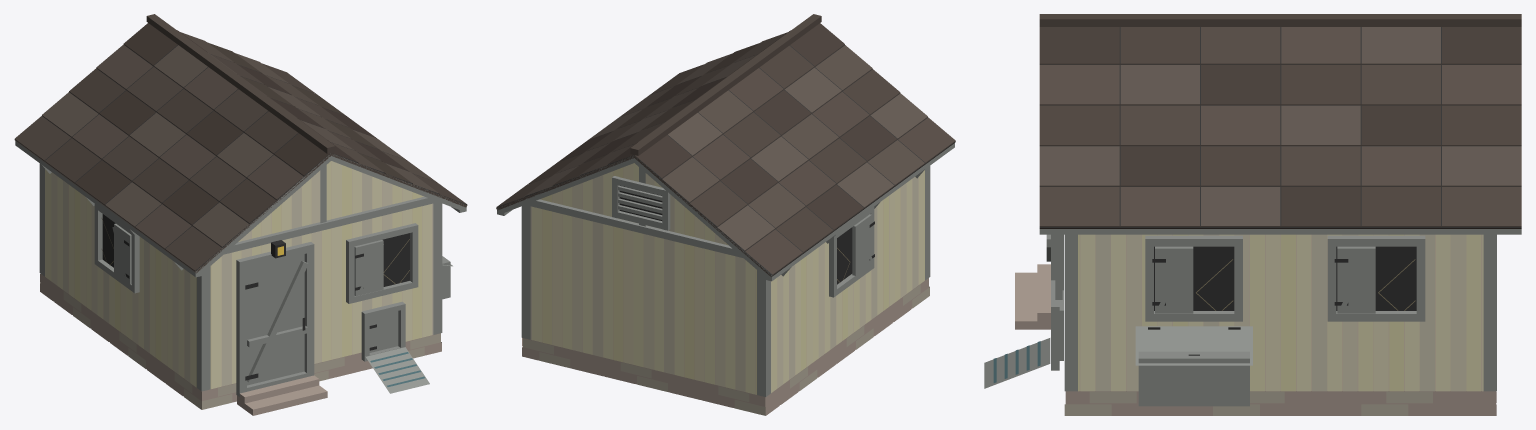
The model's file is Coop_A_Medium.fbx.
3 views of the same model, side by side, from view 1: azimuth 30°, elevation 25°; view 2: azimuth 150°, elevation 25°; view 3: azimuth 270°, elevation 25° (orthographic). The views are drawn at different scales.
Visible parts, largest first — view 1: Coop_A_Medium; view 2: Coop_A_Medium; view 3: Coop_A_Medium.
Part boxes in pixels (x1,y1,x2,y2): Coop_A_Medium: (14,14,467,415); Coop_A_Medium: (496,14,955,415); Coop_A_Medium: (984,14,1521,415).
Bounding box in the file's own units: 7.35 × 5.74 × 8.7.
